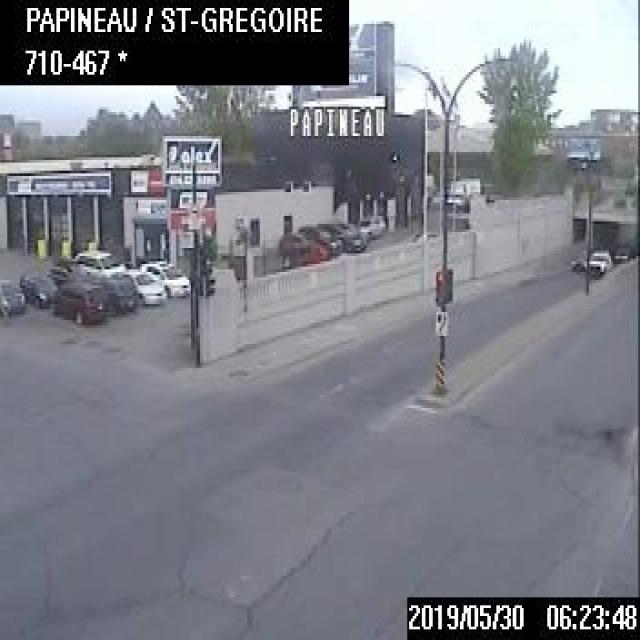vehicle: (54, 276, 106, 327), (277, 229, 327, 269), (143, 260, 190, 302), (293, 225, 342, 261), (67, 245, 127, 274), (127, 266, 166, 309), (100, 271, 137, 315), (323, 221, 366, 254), (22, 268, 56, 308), (444, 174, 481, 208), (0, 277, 27, 319), (584, 238, 611, 278), (354, 211, 385, 238), (568, 246, 585, 269), (613, 243, 634, 260)
